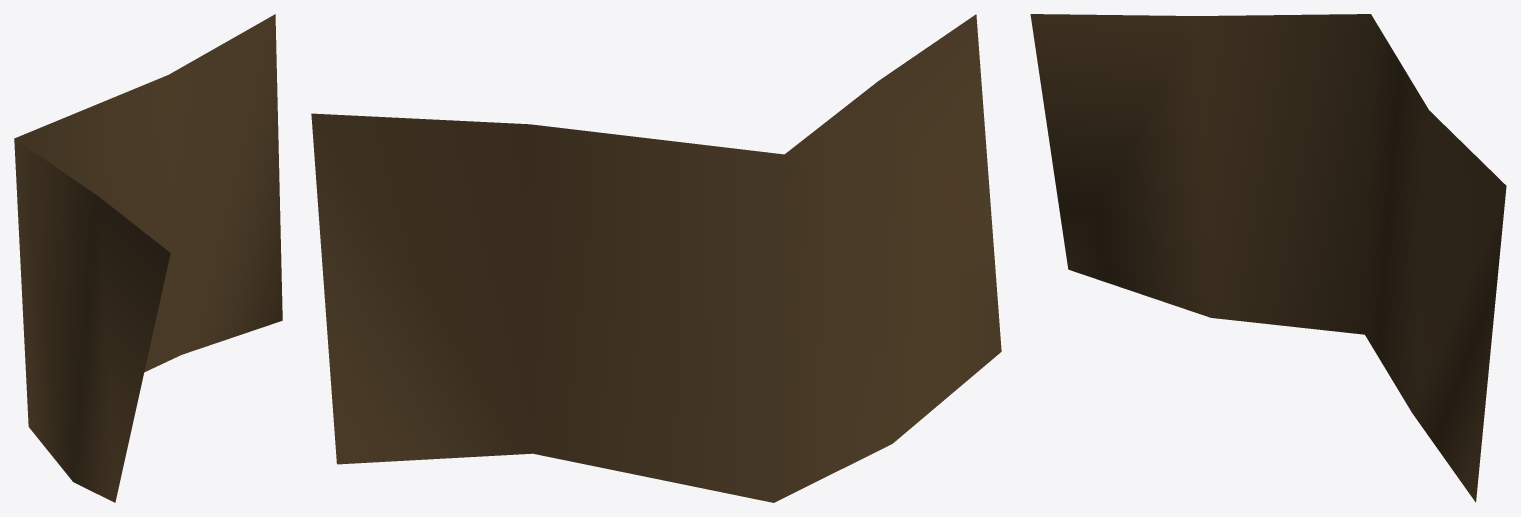
The model's file is SWORDLIGHT20_PS-AREA03_170.fbx.
3 views of the same model, side by side, from view 1: azimuth 30°, elevation 25°; view 2: azimuth 150°, elevation 25°; view 3: azimuth 270°, elevation 25° (orthographic). The views are drawn at different scales.
Visible parts, largest first — view 1: SWORDLIGHT20_PS-AREA03_170; view 2: SWORDLIGHT20_PS-AREA03_170; view 3: SWORDLIGHT20_PS-AREA03_170.
Part boxes in pixels (x1,y1,x2,y2): SWORDLIGHT20_PS-AREA03_170: (14, 14, 282, 502); SWORDLIGHT20_PS-AREA03_170: (311, 14, 1001, 502); SWORDLIGHT20_PS-AREA03_170: (1030, 14, 1506, 502).
Bounding box in the file's own units: 67039 × 52229 × 70253.
1 material, 1 textured.
